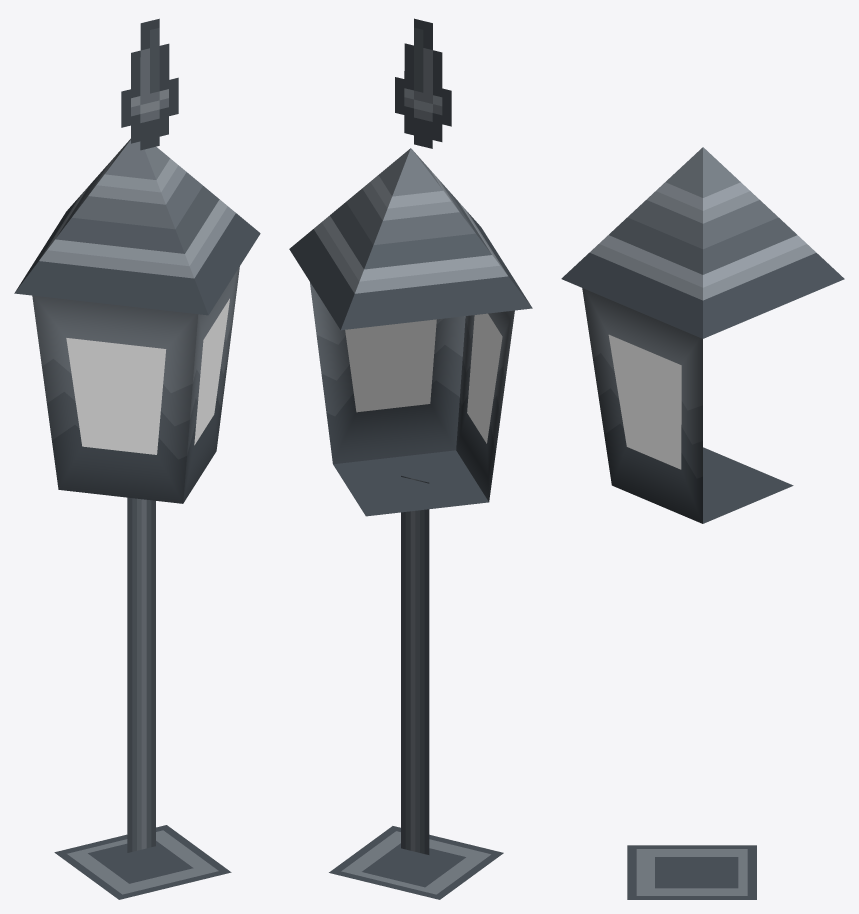
Rendered from jubilife_city_street_lamp.005_lev3.glb.
The picture shows the model from 3 angles, left to right: view 1: azimuth 30°, elevation 25°; view 2: azimuth 150°, elevation 25°; view 3: azimuth 270°, elevation 25°; orthographic projection.
Parts seen in each view (by area): view 1: jubilife_city_street_lamp.005_lev3; view 2: jubilife_city_street_lamp.005_lev3; view 3: jubilife_city_street_lamp.005_lev3.
Part boxes in pixels (x1,y1,x2,y2): jubilife_city_street_lamp.005_lev3: (14,18,260,899); jubilife_city_street_lamp.005_lev3: (289,18,532,899); jubilife_city_street_lamp.005_lev3: (561,147,844,899).
Bounding box in the file's own units: 5.37 × 17.61 × 5.37.
2 materials, 2 textured.
